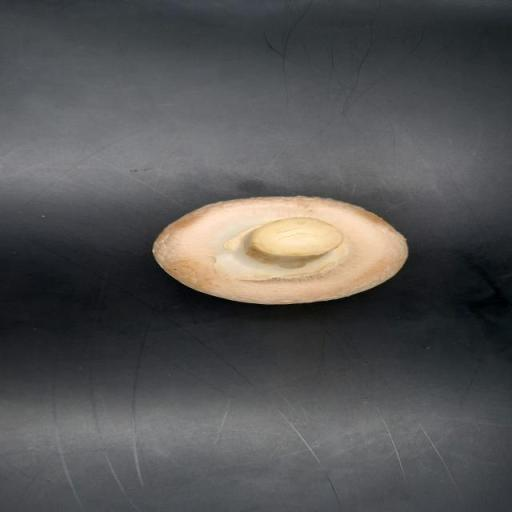mushroom: (152, 197, 410, 304)
